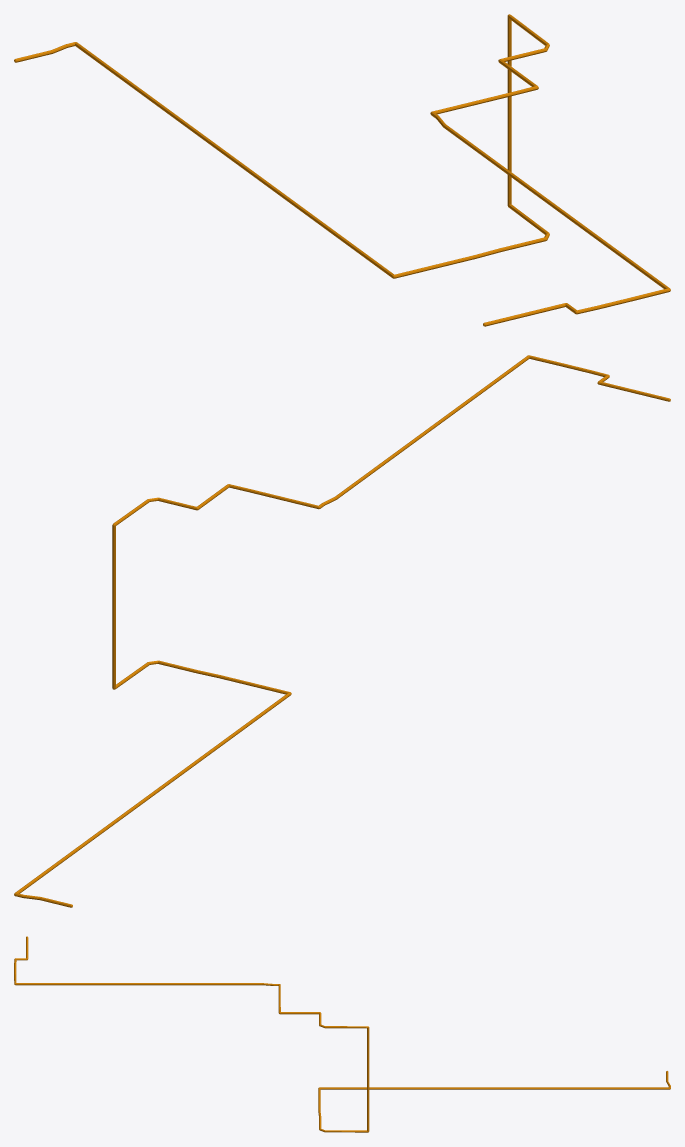
The picture shows the model from 3 angles, top to bottom: view 1: azimuth 30°, elevation 25°; view 2: azimuth 150°, elevation 25°; view 3: azimuth 270°, elevation 25°; orthographic projection. The views are drawn at different scales.
Bounding box in the file's own units: 1870 × 1020 × 5718.
